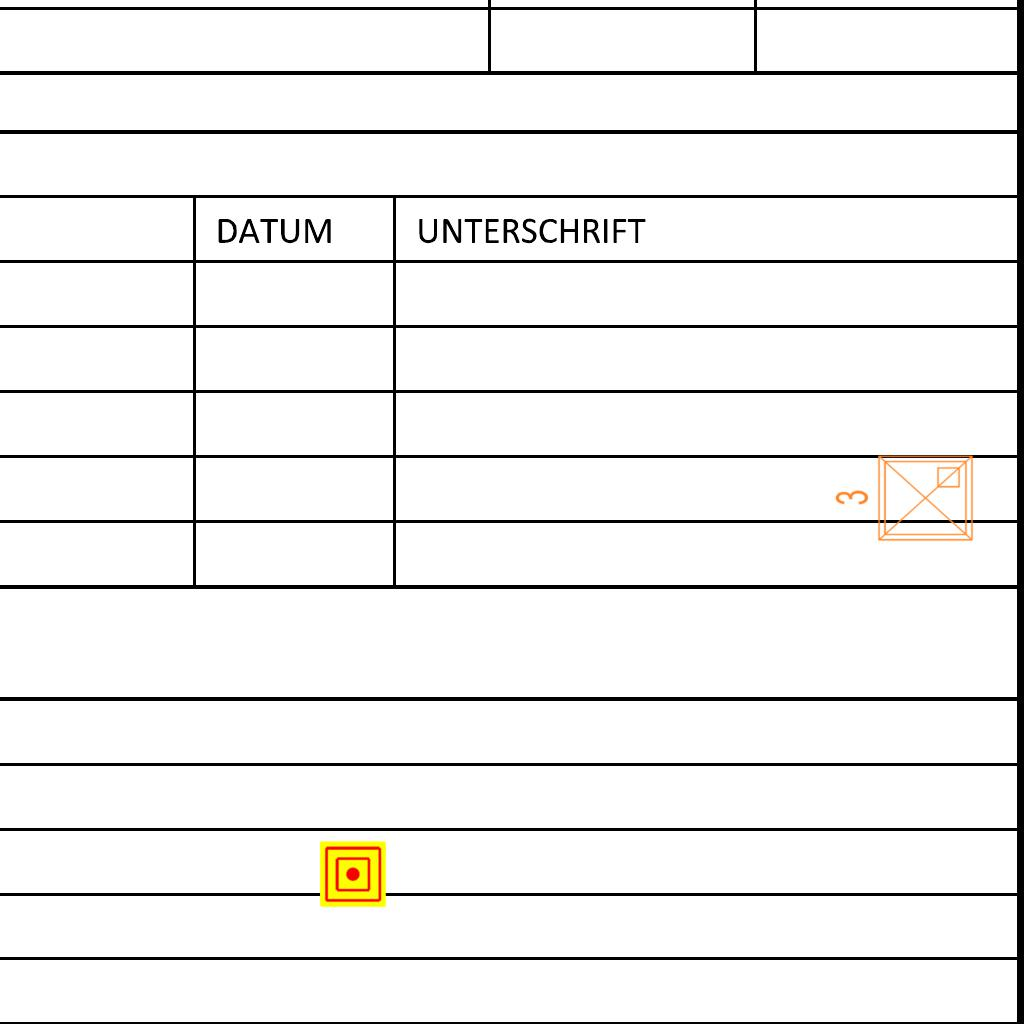Einbaudownlights_LED_Konferenzraeume: (830, 448, 980, 552)
NAM-Nichtautomatischer_Melder: (320, 841, 386, 907)
